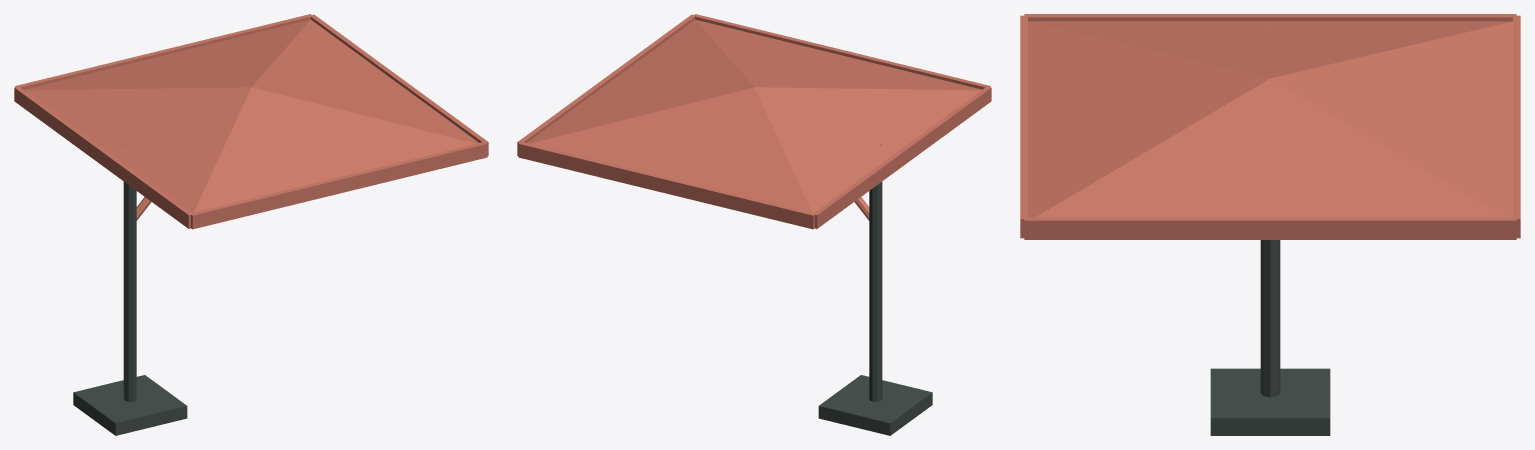
Rendered from cantilever-cafe-umbrella-visible-low.glb.
3 renders of one model, left to right at view 1: azimuth 30°, elevation 25°; view 2: azimuth 150°, elevation 25°; view 3: azimuth 270°, elevation 25°, orthographic. The views are drawn at different scales.
Visible parts, largest first — view 1: cantilever-cafe-umbrella; view 2: cantilever-cafe-umbrella; view 3: cantilever-cafe-umbrella.
Part boxes in pixels (x1,y1,x2,y2): cantilever-cafe-umbrella: (14, 14, 488, 435); cantilever-cafe-umbrella: (517, 14, 991, 435); cantilever-cafe-umbrella: (1020, 14, 1520, 435).
Size of the model in its own units: 2.8 by 2.57 by 2.8.
